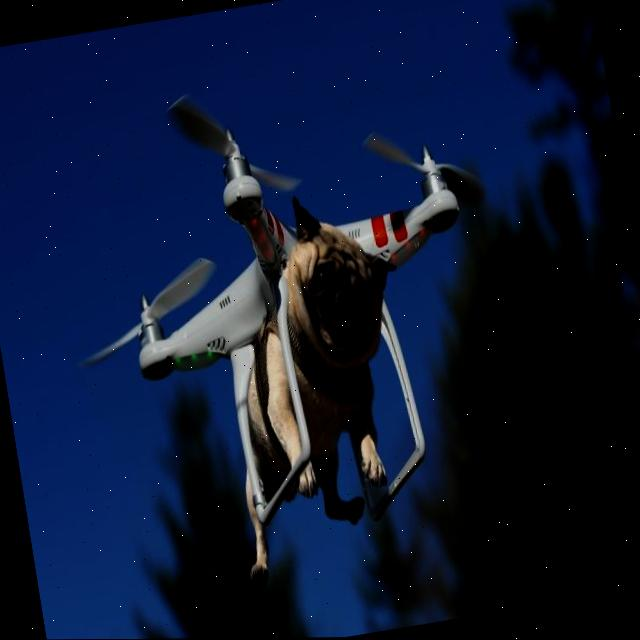drone: (84, 70, 506, 478)
